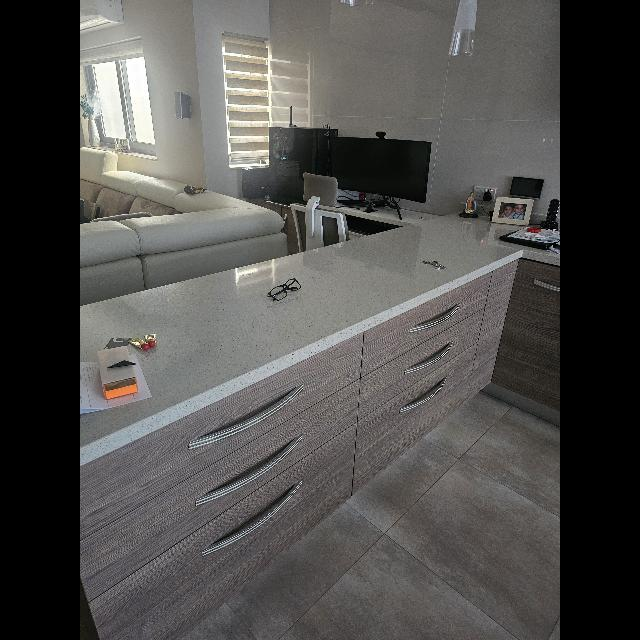glasses: (267, 278, 301, 302)
